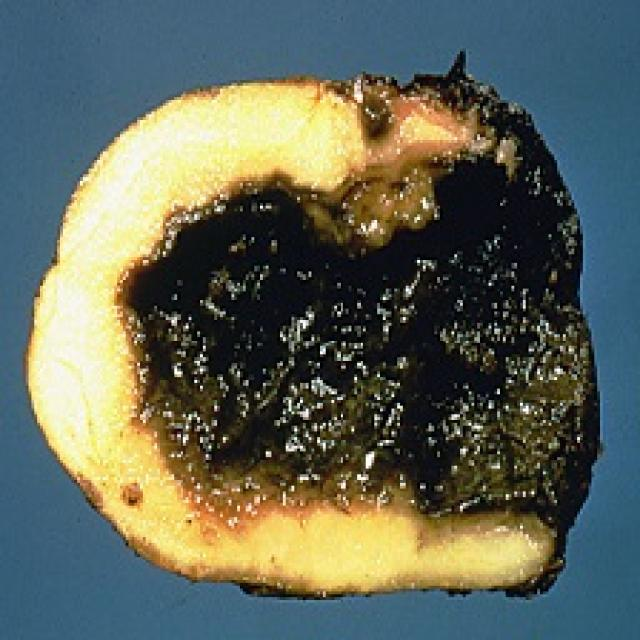blackleg: (22, 40, 614, 611)
